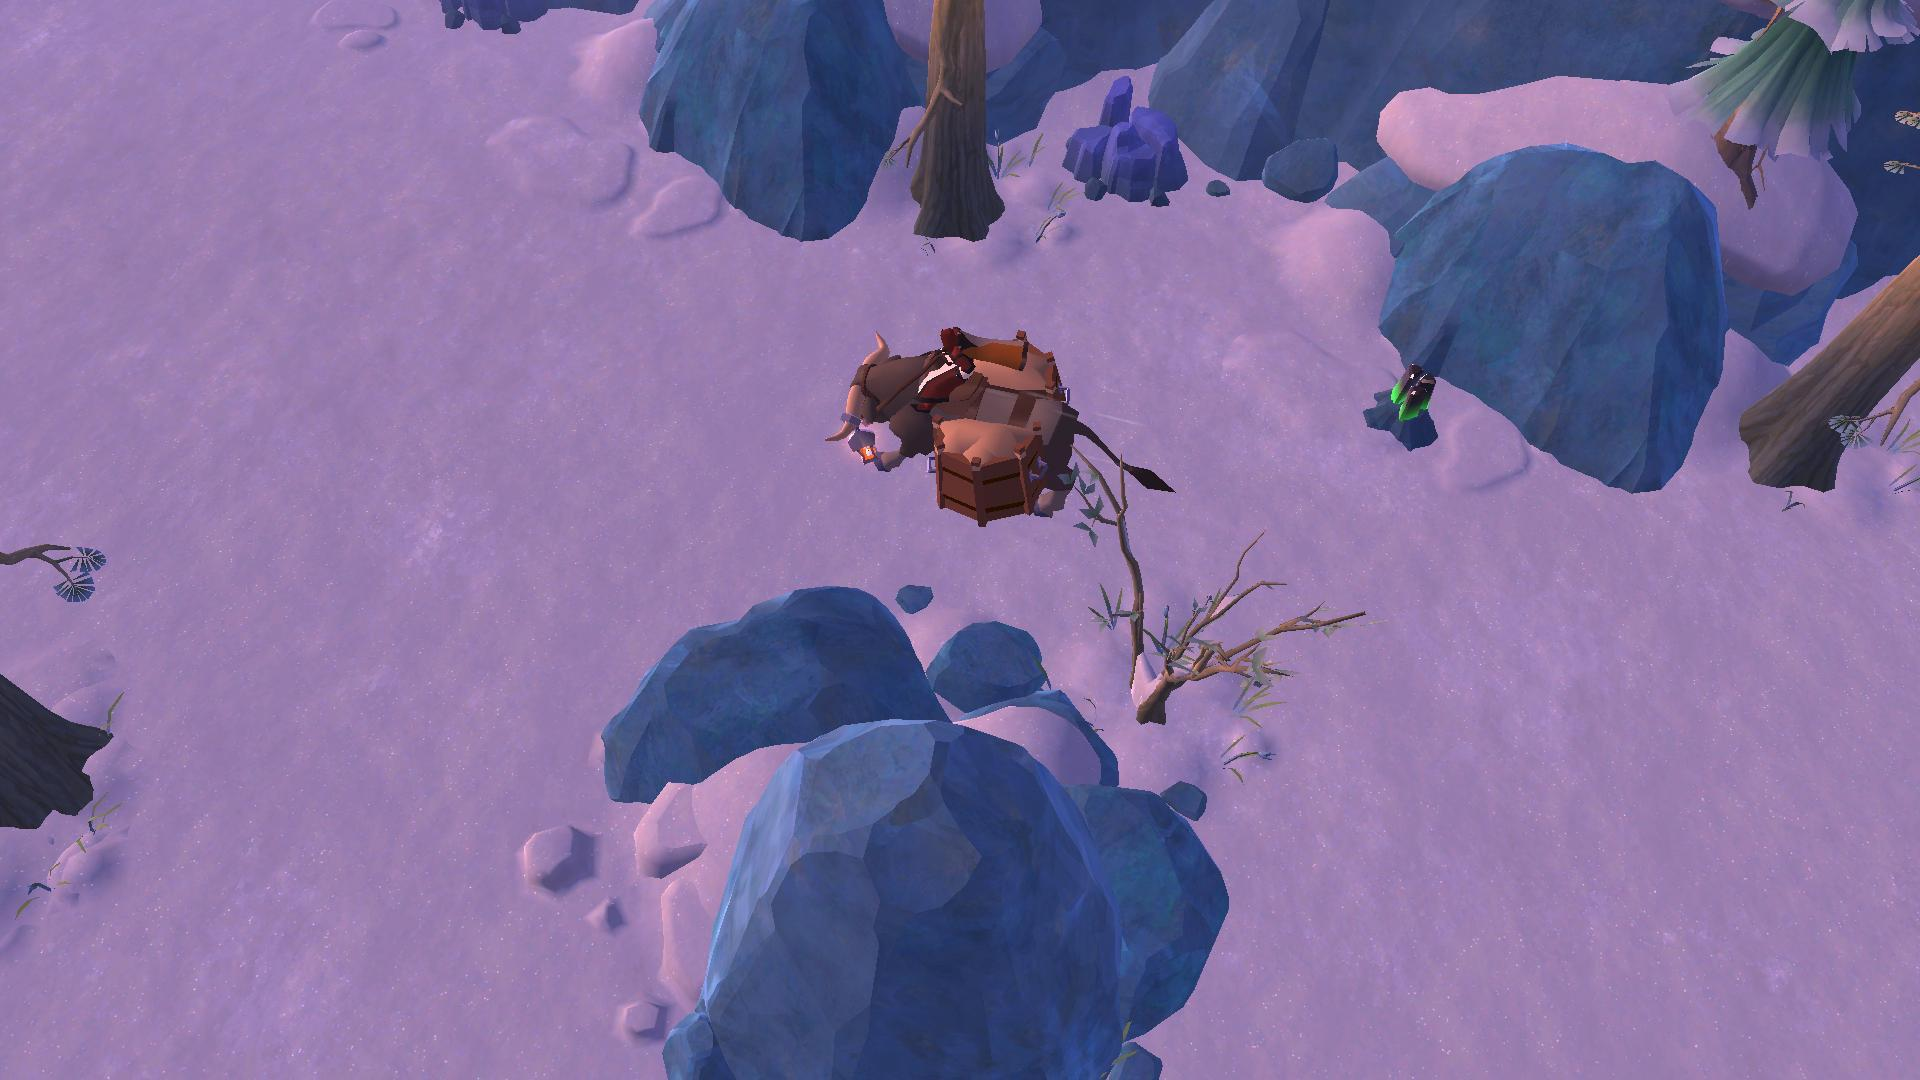ore_t3: (1385, 360, 1441, 426)
rock_t4: (1059, 69, 1192, 204)
